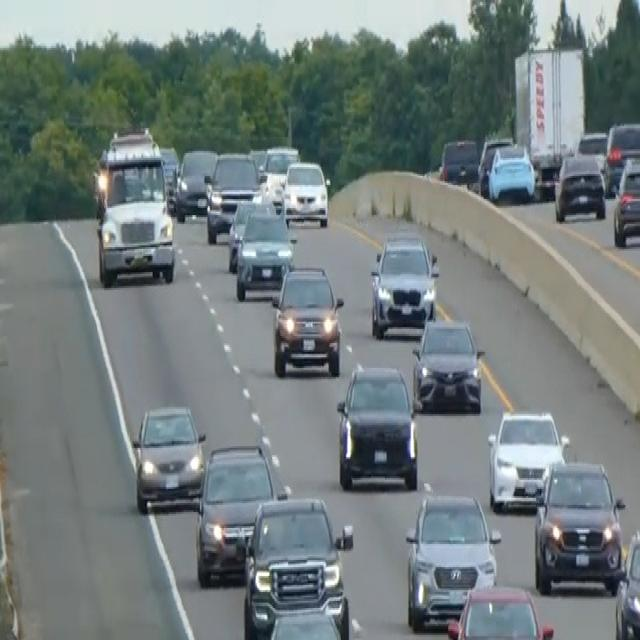car: (242, 492, 354, 638), (194, 441, 289, 587), (404, 487, 501, 629), (532, 457, 625, 595), (335, 361, 419, 491), (486, 405, 569, 512), (270, 261, 344, 377), (130, 402, 206, 512), (369, 230, 439, 340), (411, 315, 485, 414), (446, 582, 554, 638), (234, 210, 296, 300), (204, 150, 262, 243), (553, 151, 606, 222), (226, 196, 276, 270), (282, 156, 330, 228), (483, 140, 536, 202), (174, 146, 218, 220), (252, 608, 352, 638), (614, 526, 639, 638), (604, 119, 639, 194), (258, 142, 299, 206), (612, 153, 639, 247), (476, 133, 513, 192), (438, 135, 478, 185), (157, 142, 180, 210), (575, 128, 608, 174)
lorry: (92, 124, 177, 288)
truck: (511, 41, 588, 195)
